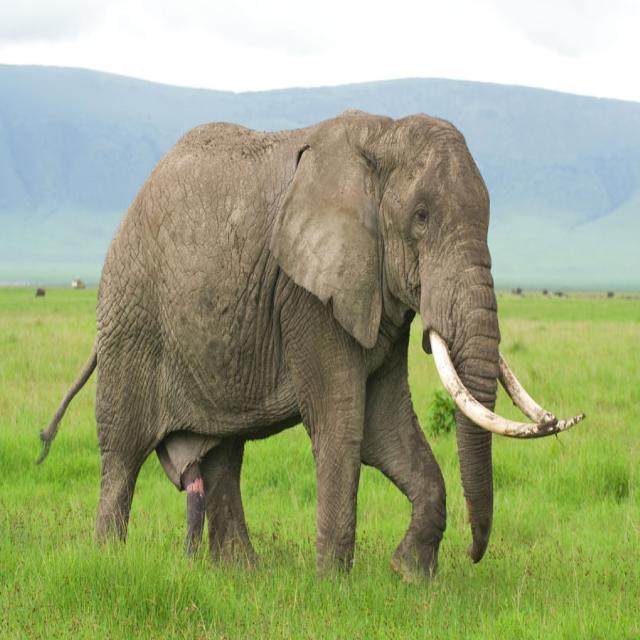Elephant: (34, 85, 585, 624)
